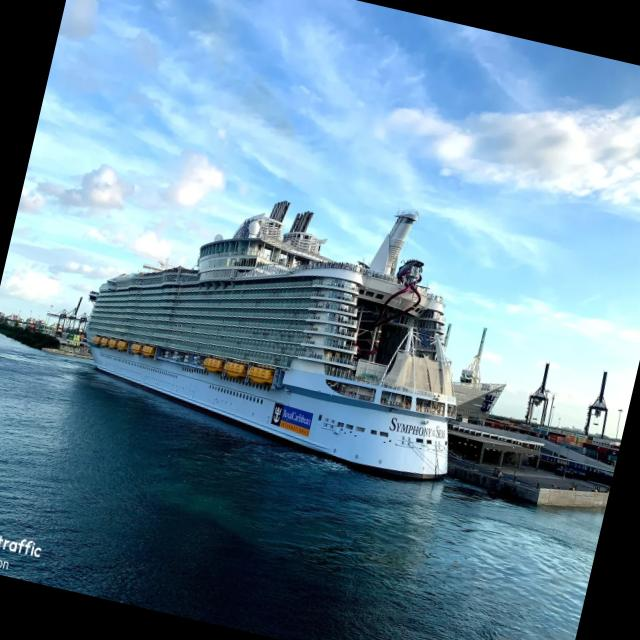Cruise: (87, 201, 455, 479)
